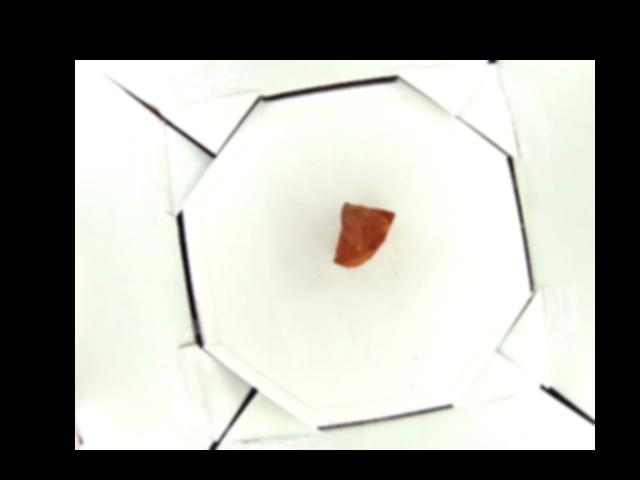Brisk: (333, 201, 397, 267)
